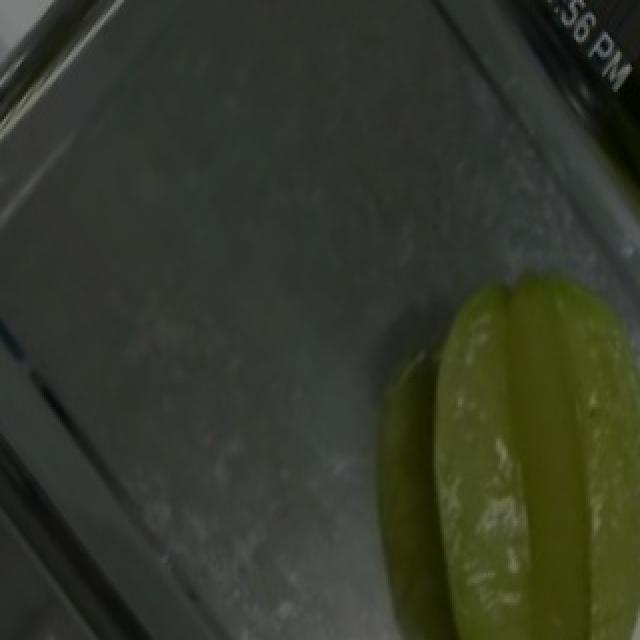fruit: (410, 218, 640, 640)
